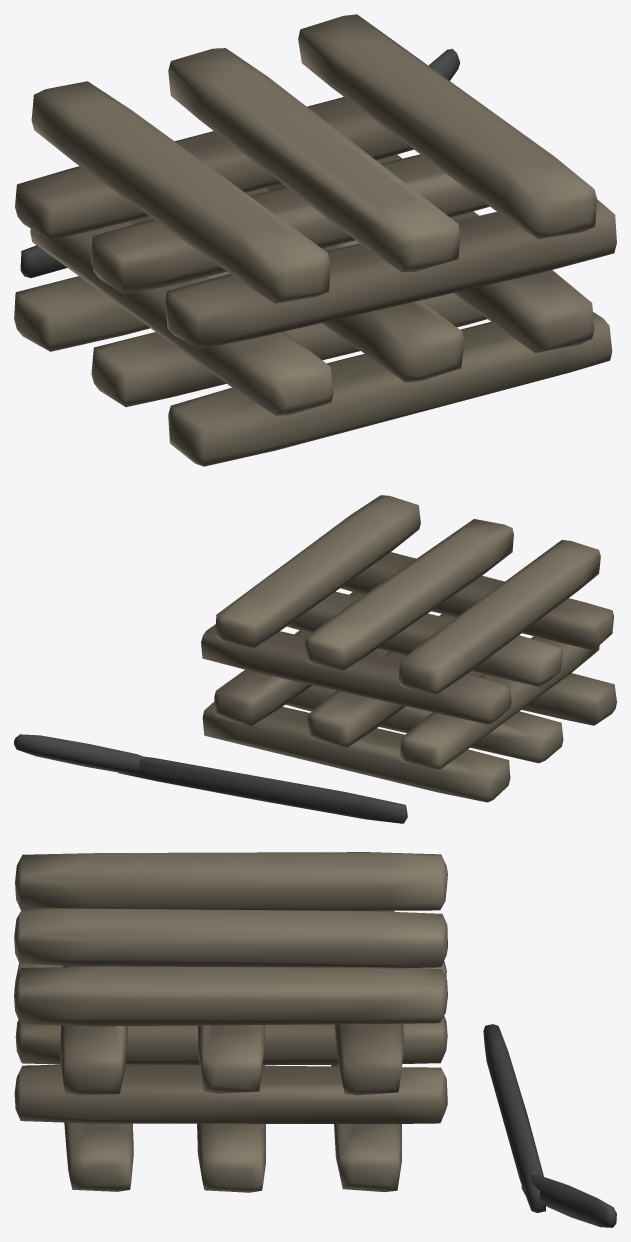
Rendered from sleeper_stack_a_lod1.glb.
3 views of the same model, one above another, from view 1: azimuth 30°, elevation 25°; view 2: azimuth 150°, elevation 25°; view 3: azimuth 270°, elevation 25° (orthographic). The views are drawn at different scales.
Visible parts, largest first — view 1: Surface.001; view 2: Surface.001; view 3: Surface.001.
Boxes of the visible parts, left/top/right/bottom form: Surface.001: left=14, top=14, right=616, bottom=466; Surface.001: left=14, top=495, right=616, bottom=823; Surface.001: left=14, top=852, right=616, bottom=1227.
Size of the model in its own units: 2.15 by 0.7919 by 2.23.
